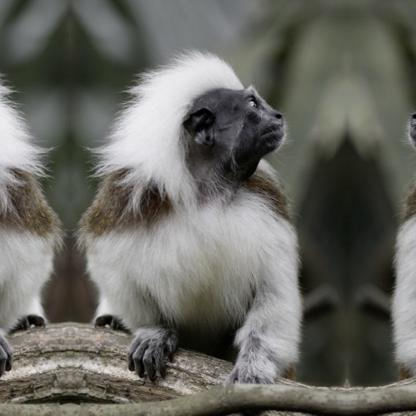Monkey: (72, 52, 304, 388), (0, 51, 66, 389)
